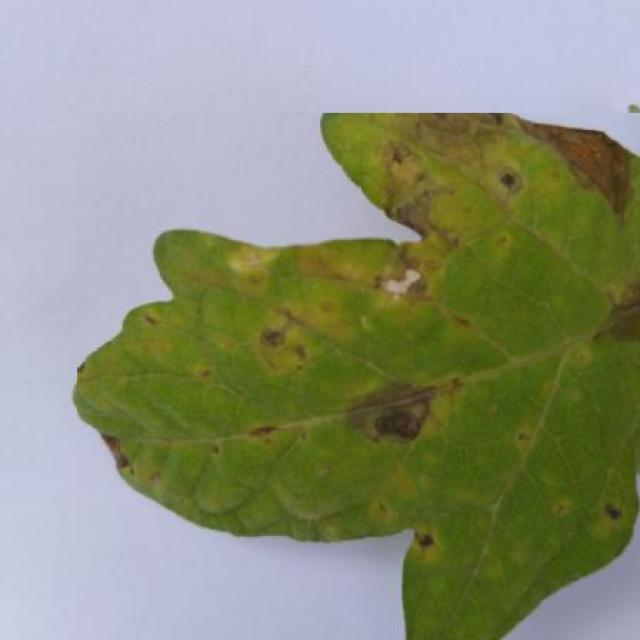Early Blight: (77, 113, 640, 640)
